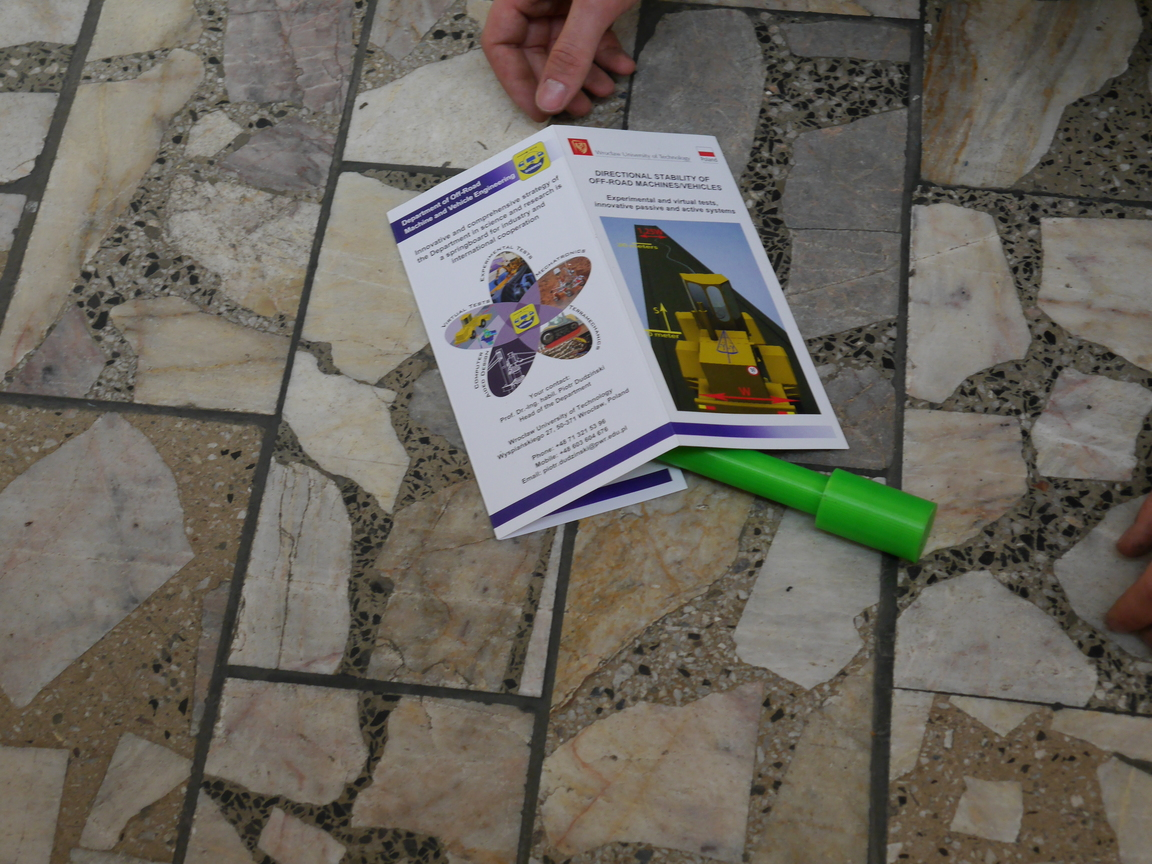cargo_g: (656, 442, 938, 566)
